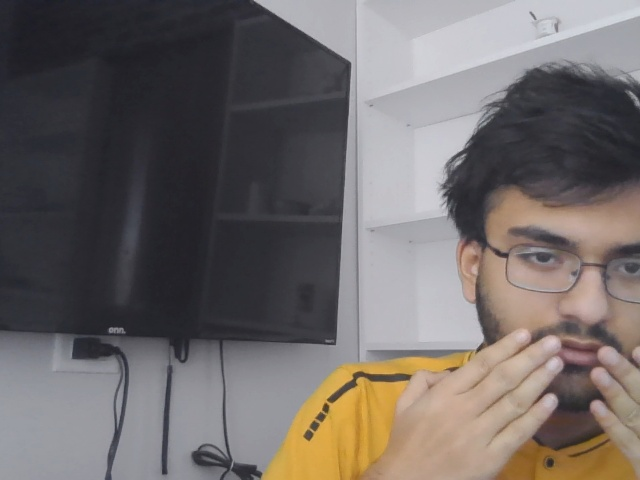ThankYou: (395, 327, 640, 480)
